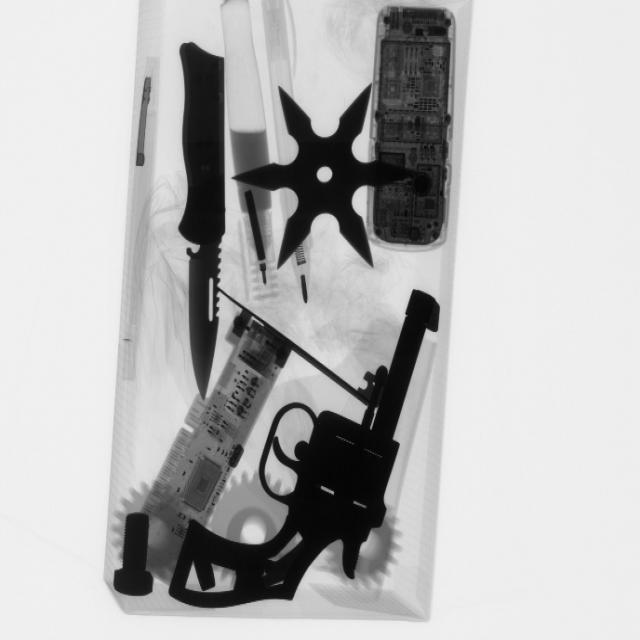GUN: (165, 287, 440, 616)
KNIFE: (167, 50, 239, 392)
SHURIKEN: (239, 78, 417, 270)
